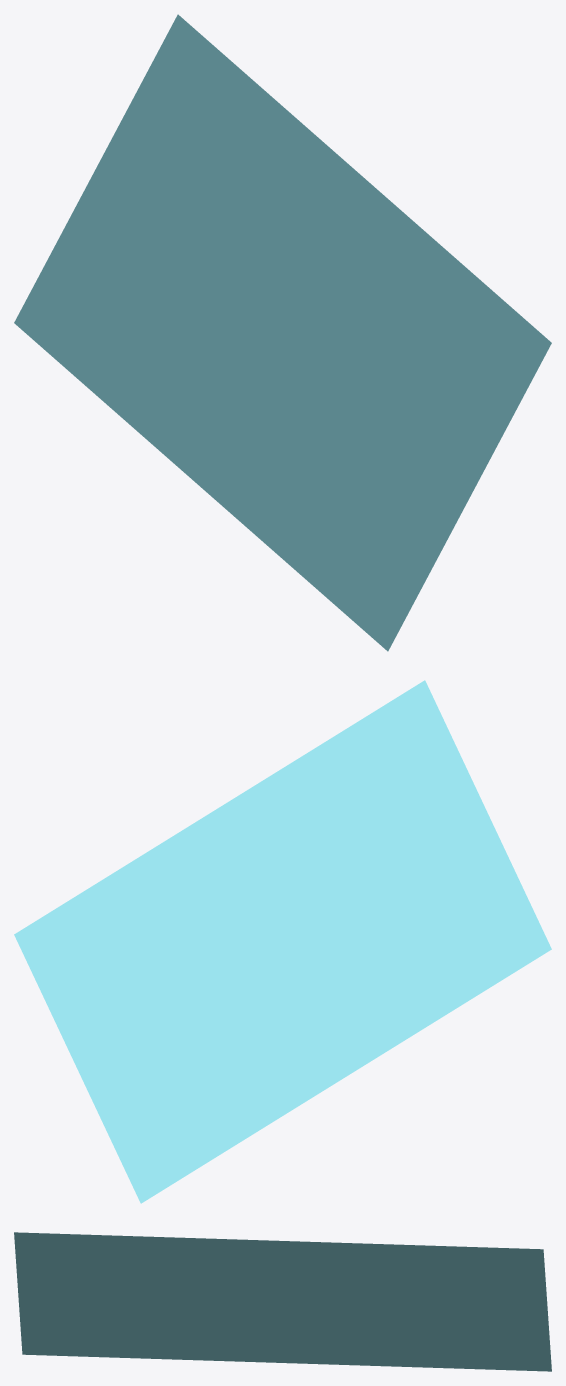
Rendered from BackgroundBackLayer.fbx.
3 views of the same model, one above another, from view 1: azimuth 30°, elevation 25°; view 2: azimuth 150°, elevation 25°; view 3: azimuth 270°, elevation 25° (orthographic). The views are drawn at different scales.
Visible parts, largest first — view 1: Plane.001; view 2: Plane.001; view 3: Plane.001.
Boxes of the visible parts, x1=… form: Plane.001: x1=14, y1=14, x2=551, y2=651; Plane.001: x1=14, y1=680, x2=551, y2=1203; Plane.001: x1=14, y1=1232, x2=551, y2=1371.
Size of the model in its own units: 2149 by 2652 by 7628.
